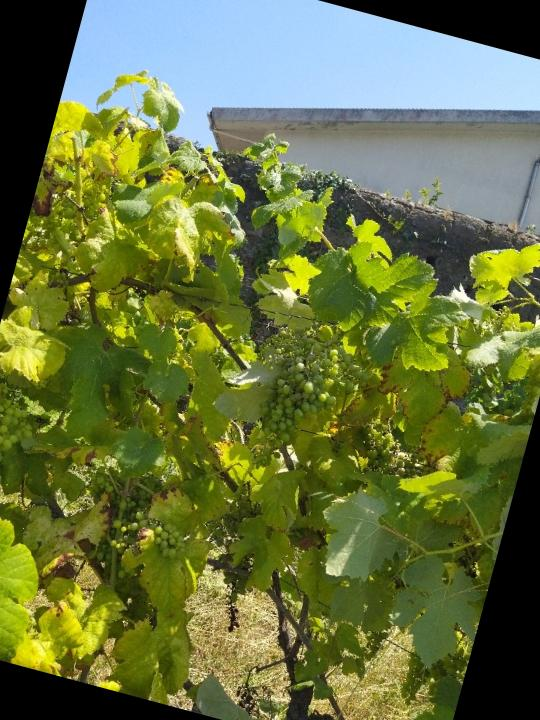grape: (242, 333, 350, 486), (0, 356, 51, 491)
